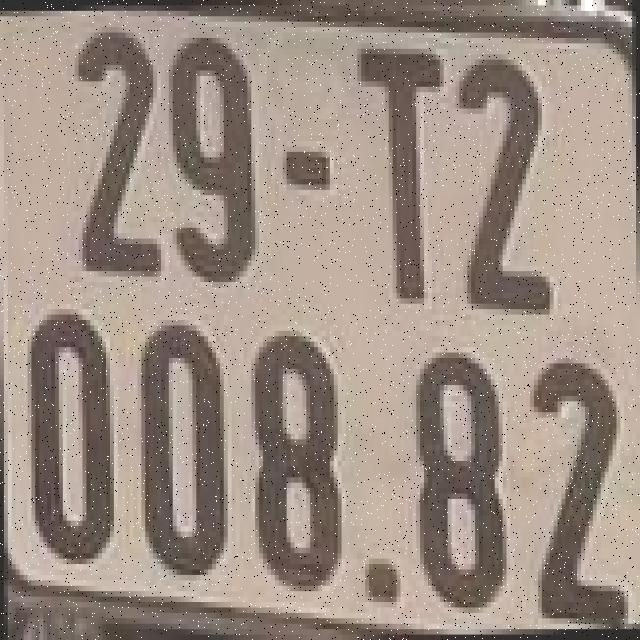0: (136, 312, 234, 578), (23, 304, 122, 564)
2: (526, 344, 636, 626), (454, 46, 564, 317), (65, 22, 167, 282)
8: (408, 339, 514, 610), (248, 317, 350, 594)
9: (165, 27, 267, 288)
T: (352, 38, 449, 304)
